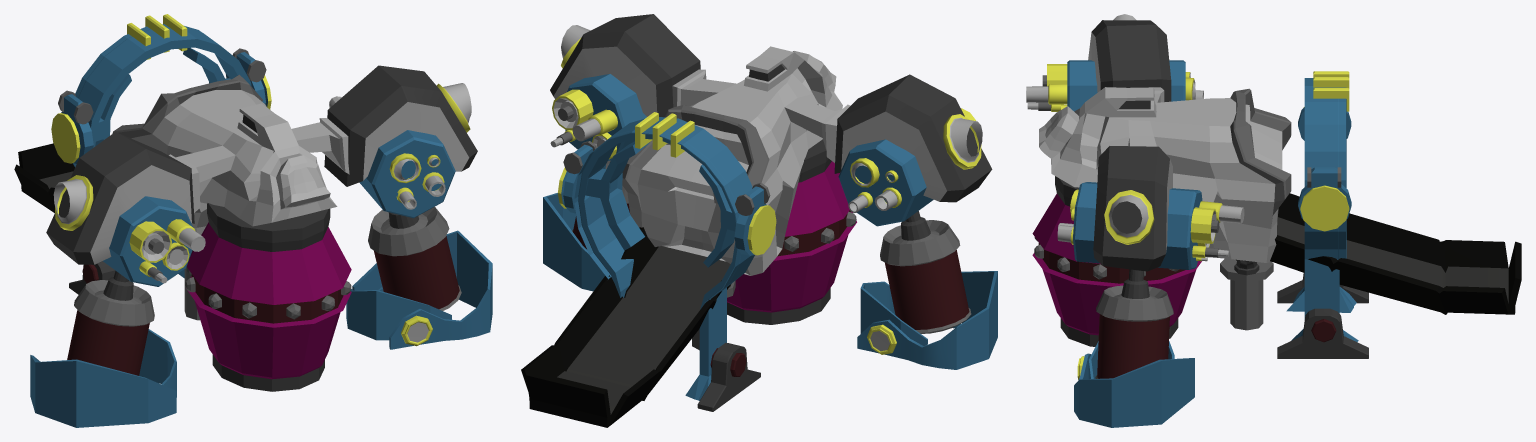
The model's file is dank receiver.fbx.
The picture shows the model from 3 angles, left to right: view 1: azimuth 30°, elevation 25°; view 2: azimuth 150°, elevation 25°; view 3: azimuth 270°, elevation 25°; orthographic projection. The views are drawn at different scales.
Visible parts, largest first — view 1: pCylinder1, pCube16, pCube12, pCube3, pCube4, pCylinder29, pCylinder6, pCylinder18, pCube14, pCylinder34, pCylinder3, pCube13 (+12 smaller); view 2: pCube16, pCube11, pCylinder18, pCylinder1, pCube3, pCube12, pCylinder6, pCube4, pCylinder3, pCube14, pCylinder34, pCube9 (+13 smaller); view 3: pCube16, pCube11, pCylinder1, pCube12, pCylinder18, pCube14, pCylinder29, pCube3, pCylinder34, pCylinder24, pCube10, pCylinder15 (+7 smaller).
Part boxes in pixels (left/top/right/bottom): pCylinder1: left=186, top=203, right=351, bottom=391; pCube16: left=112, top=74, right=349, bottom=234; pCube12: left=324, top=65, right=477, bottom=186; pCube3: left=46, top=132, right=194, bottom=264; pCube4: left=30, top=355, right=176, bottom=427; pCylinder29: left=368, top=207, right=461, bottom=310; pCylinder6: left=67, top=271, right=154, bottom=375; pCylinder18: left=73, top=24, right=251, bottom=278; pCube14: left=352, top=230, right=492, bottom=349; pCylinder34: left=359, top=130, right=455, bottom=218; pCylinder3: left=103, top=196, right=192, bottom=286; pCube13: left=346, top=286, right=451, bottom=340; pCube16: left=622, top=46, right=850, bottom=275; pCube11: left=521, top=227, right=730, bottom=427; pCylinder18: left=574, top=117, right=754, bottom=400; pCylinder1: left=727, top=139, right=856, bottom=324; pCube3: left=834, top=74, right=992, bottom=202; pCube12: left=550, top=14, right=700, bottom=116; pCylinder6: left=880, top=211, right=971, bottom=333; pCube4: left=857, top=271, right=997, bottom=369; pCylinder3: left=838, top=139, right=933, bottom=226; pCube14: left=543, top=193, right=605, bottom=291; pCylinder34: left=565, top=74, right=646, bottom=160; pCube9: left=697, top=342, right=760, bottom=411; pCube16: left=1039, top=87, right=1291, bottom=262; pCube11: left=1270, top=193, right=1521, bottom=314; pCylinder1: left=1032, top=176, right=1201, bottom=346; pCube12: left=1093, top=146, right=1172, bottom=271; pCylinder18: left=1286, top=78, right=1358, bottom=342; pCube14: left=1074, top=353, right=1194, bottom=427; pCylinder29: left=1095, top=269, right=1173, bottom=378; pCube3: left=1088, top=20, right=1171, bottom=101; pCylinder34: left=1073, top=182, right=1202, bottom=269; pCylinder24: left=1298, top=167, right=1351, bottom=231; pCube10: left=1277, top=308, right=1368, bottom=358; pCylinder15: left=1220, top=258, right=1273, bottom=330.
Size of the model in its own units: 6.75 by 3.82 by 6.85.
